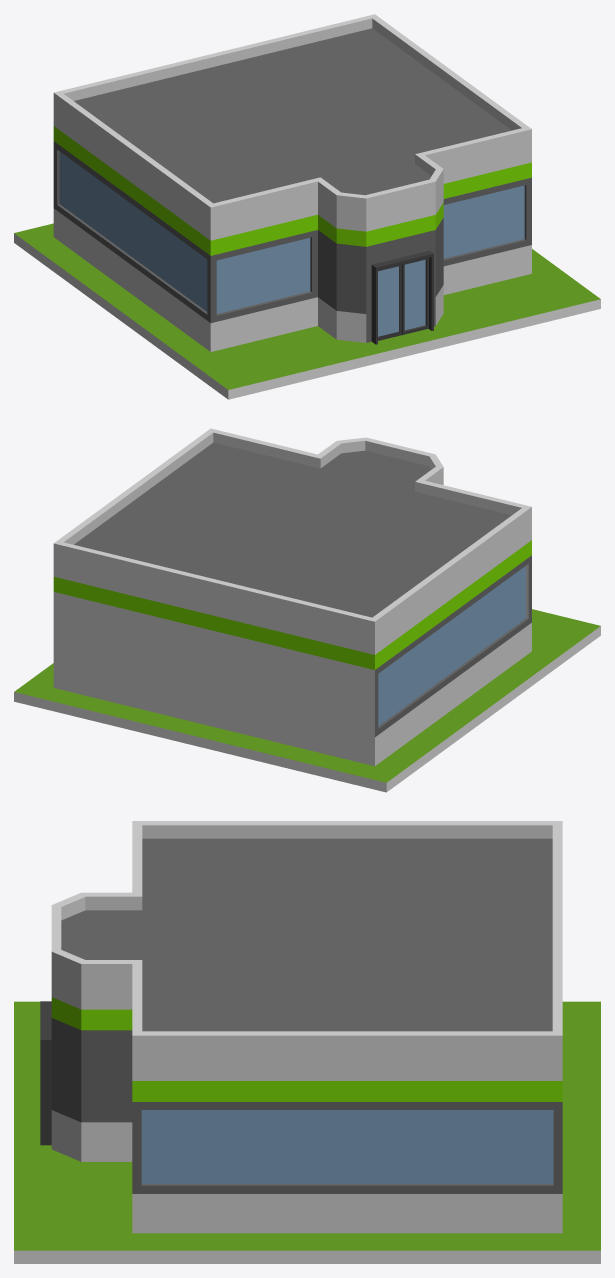
File: GYM.gltf
3 renders of one model, top to bottom at view 1: azimuth 30°, elevation 25°; view 2: azimuth 150°, elevation 25°; view 3: azimuth 270°, elevation 25°, orthographic. The views are drawn at different scales.
Parts seen in each view (by area): view 1: GYM BUILDING, BAZA 2x2.016, DOOR; view 2: GYM BUILDING, BAZA 2x2.016; view 3: GYM BUILDING, BAZA 2x2.016, DOOR.
Boxes of the visible parts, x1,y1,x2,y2 form: GYM BUILDING: (53, 14, 531, 351); BAZA 2x2.016: (14, 223, 600, 399); DOOR: (371, 250, 433, 344); GYM BUILDING: (53, 428, 531, 766); BAZA 2x2.016: (14, 609, 600, 792); GYM BUILDING: (51, 821, 562, 1233); BAZA 2x2.016: (14, 1001, 600, 1263); DOOR: (40, 1001, 51, 1145).
Bounding box in the file's own units: 4.02 × 1.59 × 4.
